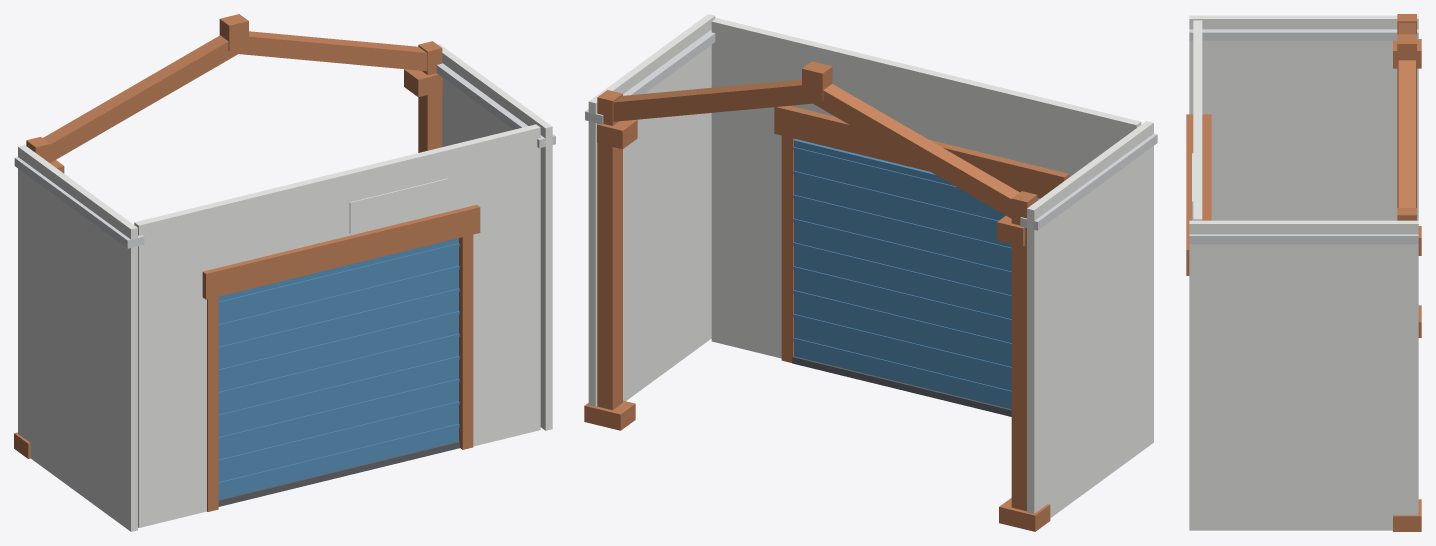
Rendered from shipyard-and-dry-dock-shipyard-and-dry-dock-fabricatio-aea272d7__37941.glb.
The picture shows the model from 3 angles, left to right: view 1: azimuth 30°, elevation 25°; view 2: azimuth 150°, elevation 25°; view 3: azimuth 270°, elevation 25°; orthographic projection. The views are drawn at different scales.
Parts seen in each view (by area): view 1: shipyard-and-dry-dock-fabrication-shed-door-bay, roller-door/blue (×10), roller-door/charcoal; view 2: shipyard-and-dry-dock-fabrication-shed-door-bay, roller-door/blue (×10), roller-door/charcoal; view 3: shipyard-and-dry-dock-fabrication-shed-door-bay.
Part boxes in pixels (x1,y1,x2,y2): shipyard-and-dry-dock-fabrication-shed-door-bay: [14, 14, 555, 531]; roller-door/blue (×10): [218, 238, 459, 499]; roller-door/charcoal: [218, 441, 459, 506]; shipyard-and-dry-dock-fabrication-shed-door-bay: [584, 14, 1157, 531]; roller-door/blue (×10): [793, 139, 1039, 409]; roller-door/charcoal: [792, 356, 1011, 416]; shipyard-and-dry-dock-fabrication-shed-door-bay: [1186, 14, 1421, 531].
Bounding box in the file's own units: 8.74 × 7.45 × 4.1.
